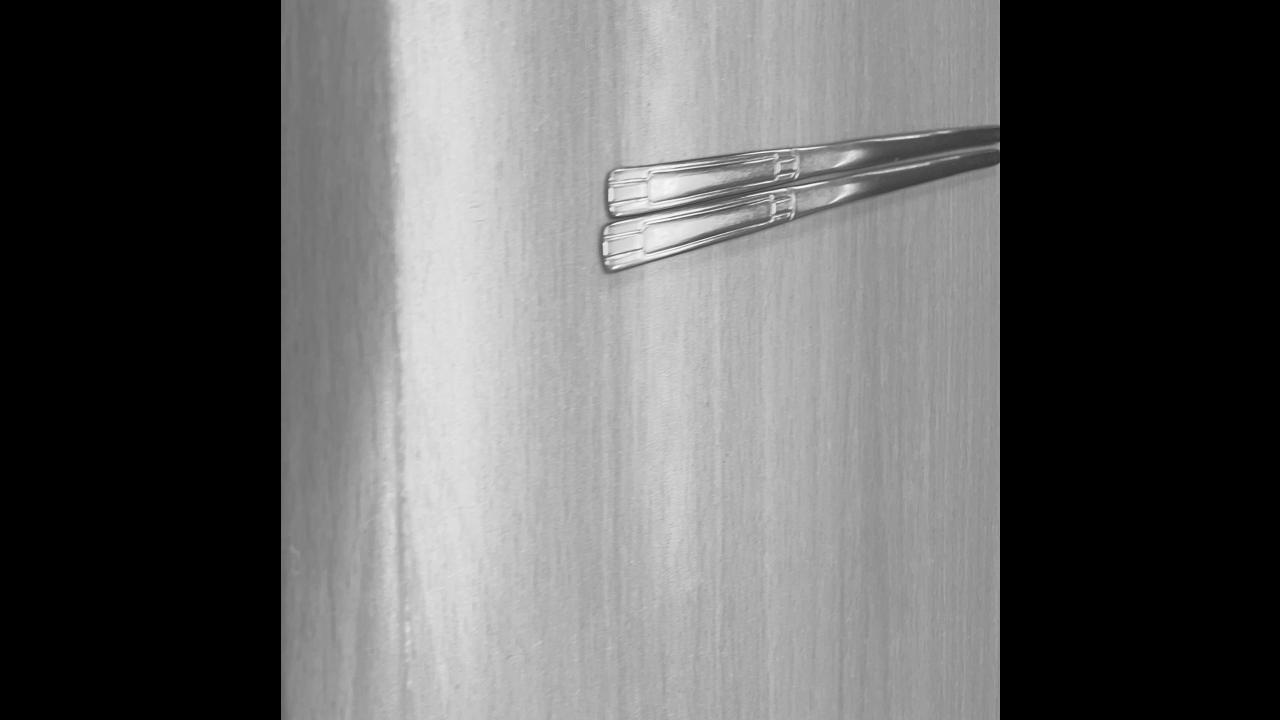chopstick: (602, 129, 1000, 270)
